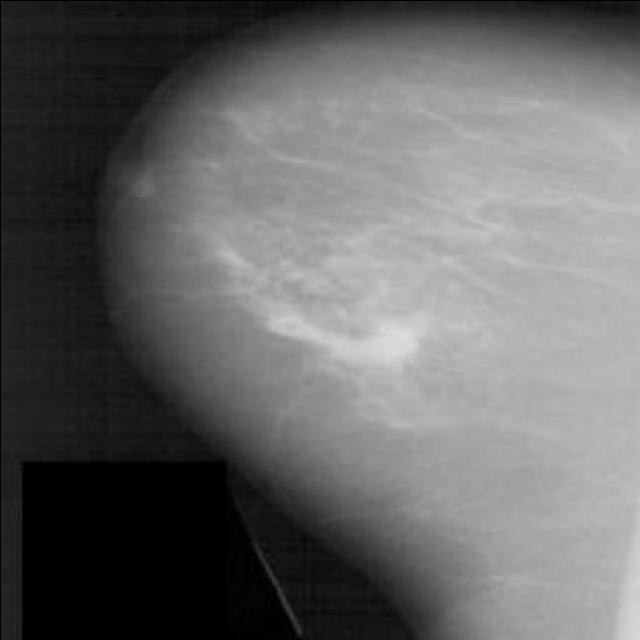tumor: (208, 246, 426, 379)
